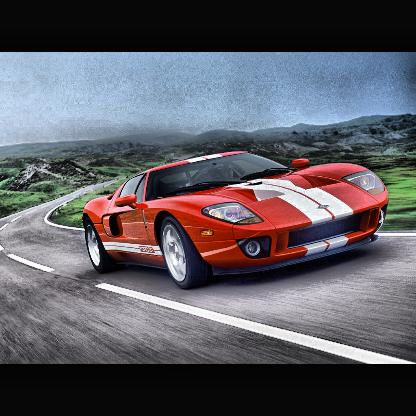Ford GT Coupe 2006: (82, 151, 392, 294)
